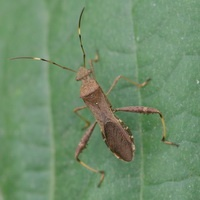insect: (135, 11, 177, 109), (52, 72, 74, 163), (90, 17, 129, 43)
